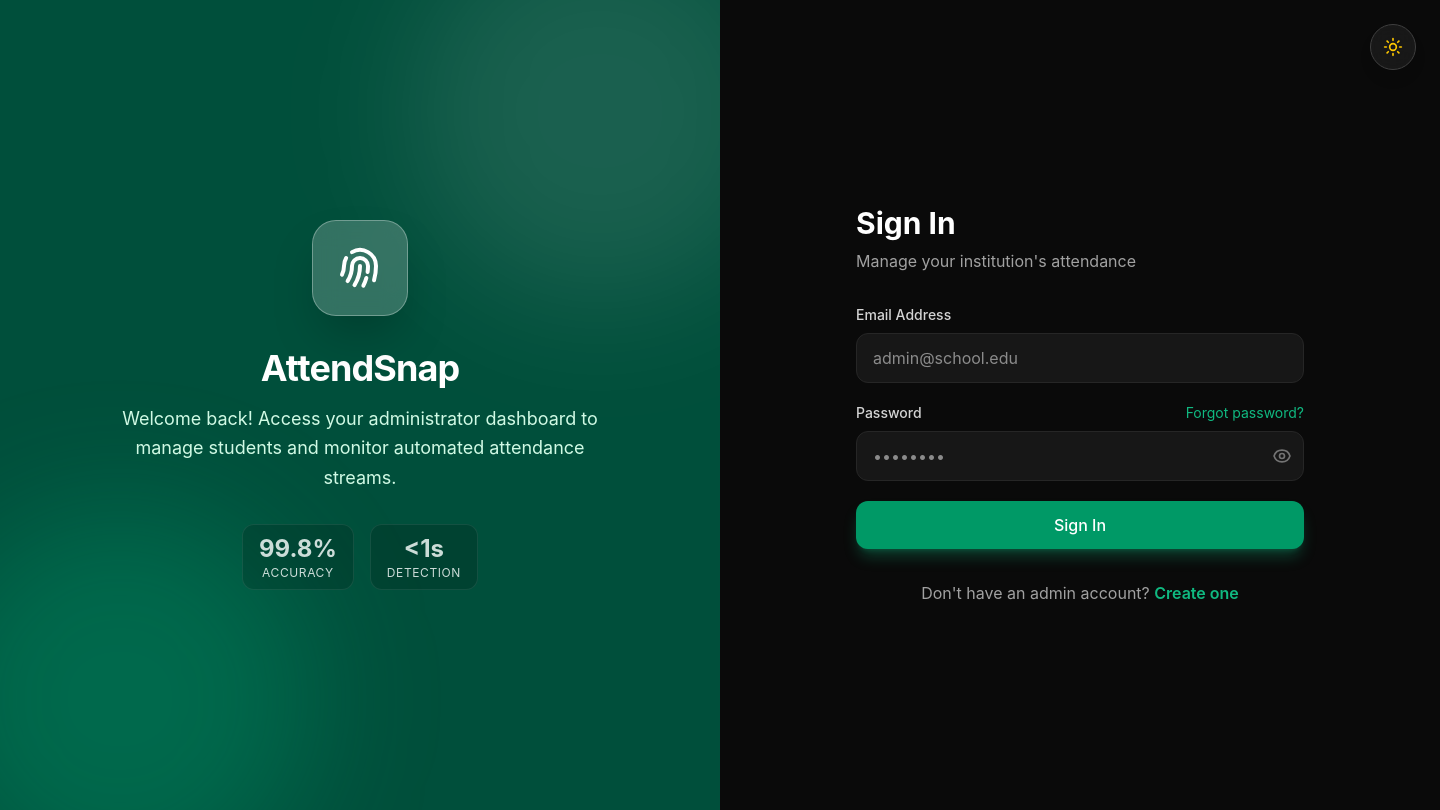
it: AdminAuth — Login Form › failed login shows error message
Type "bad@test.com" into the field labelled "Email Address" at (1080, 358), box x1=856 y1=333 x2=1304 y2=383
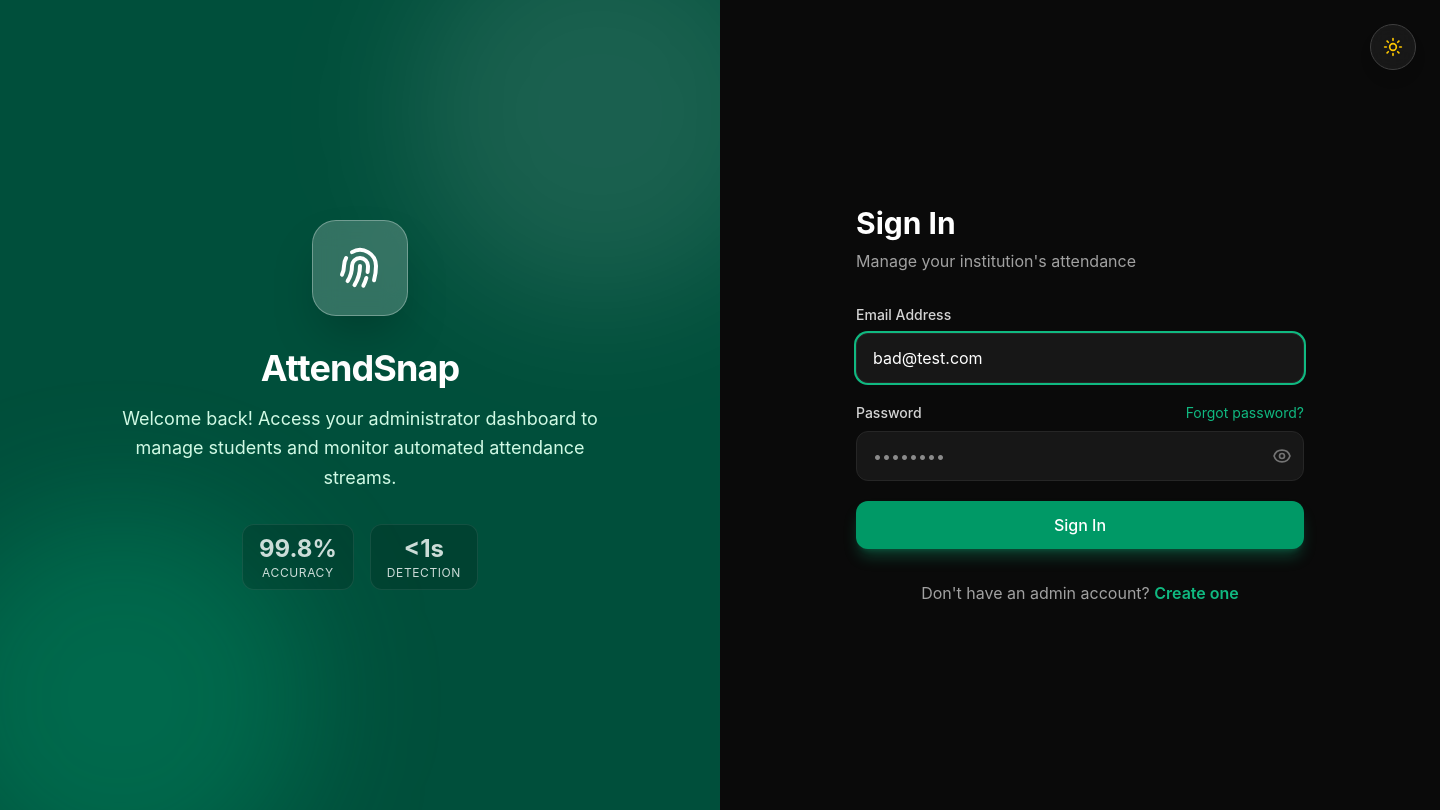
Type "wrongpass" into the password field with placeholder "••••••••" at (1080, 456), box x1=856 y1=431 x2=1304 y2=481
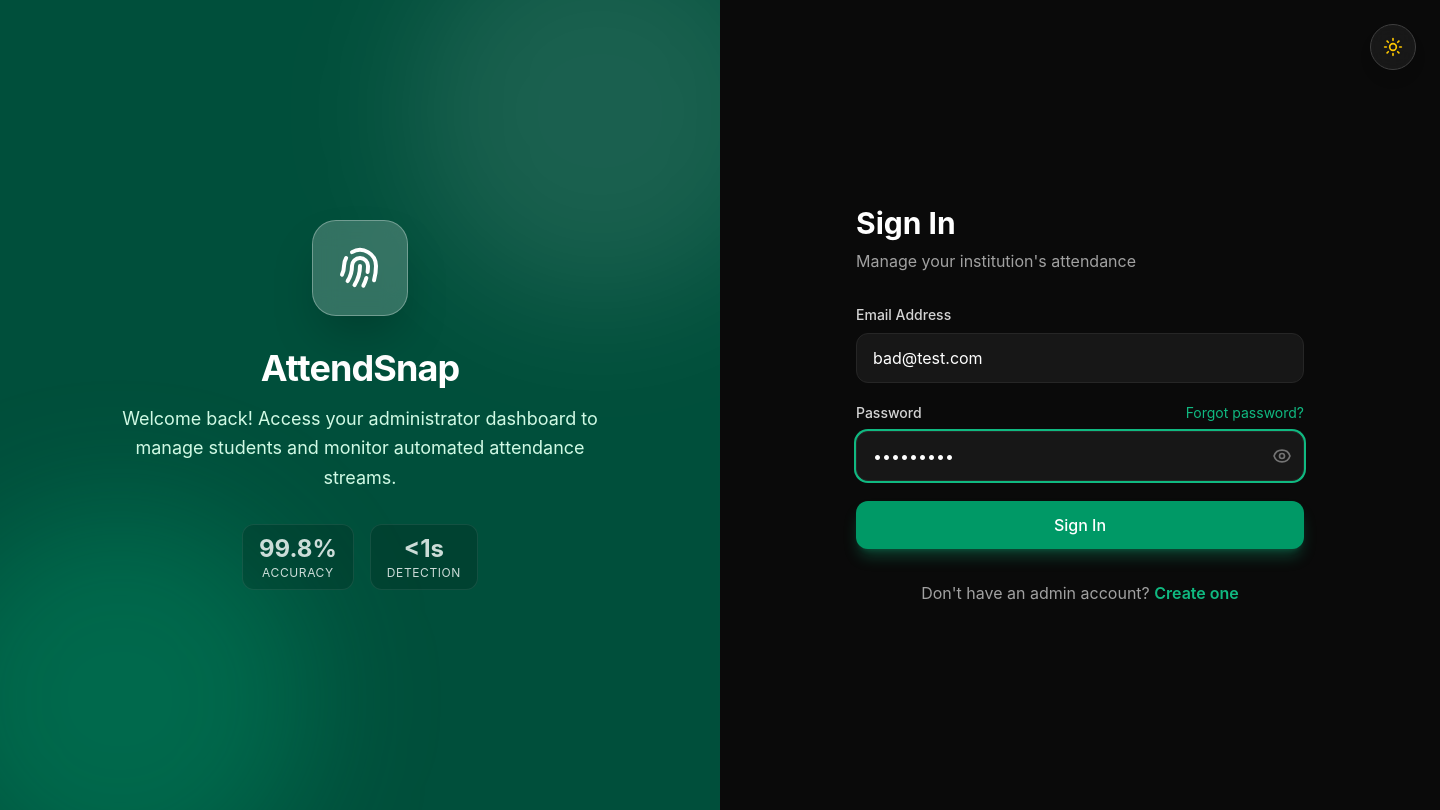
Click the button "Sign In" at (1080, 525), box x1=856 y1=501 x2=1304 y2=549
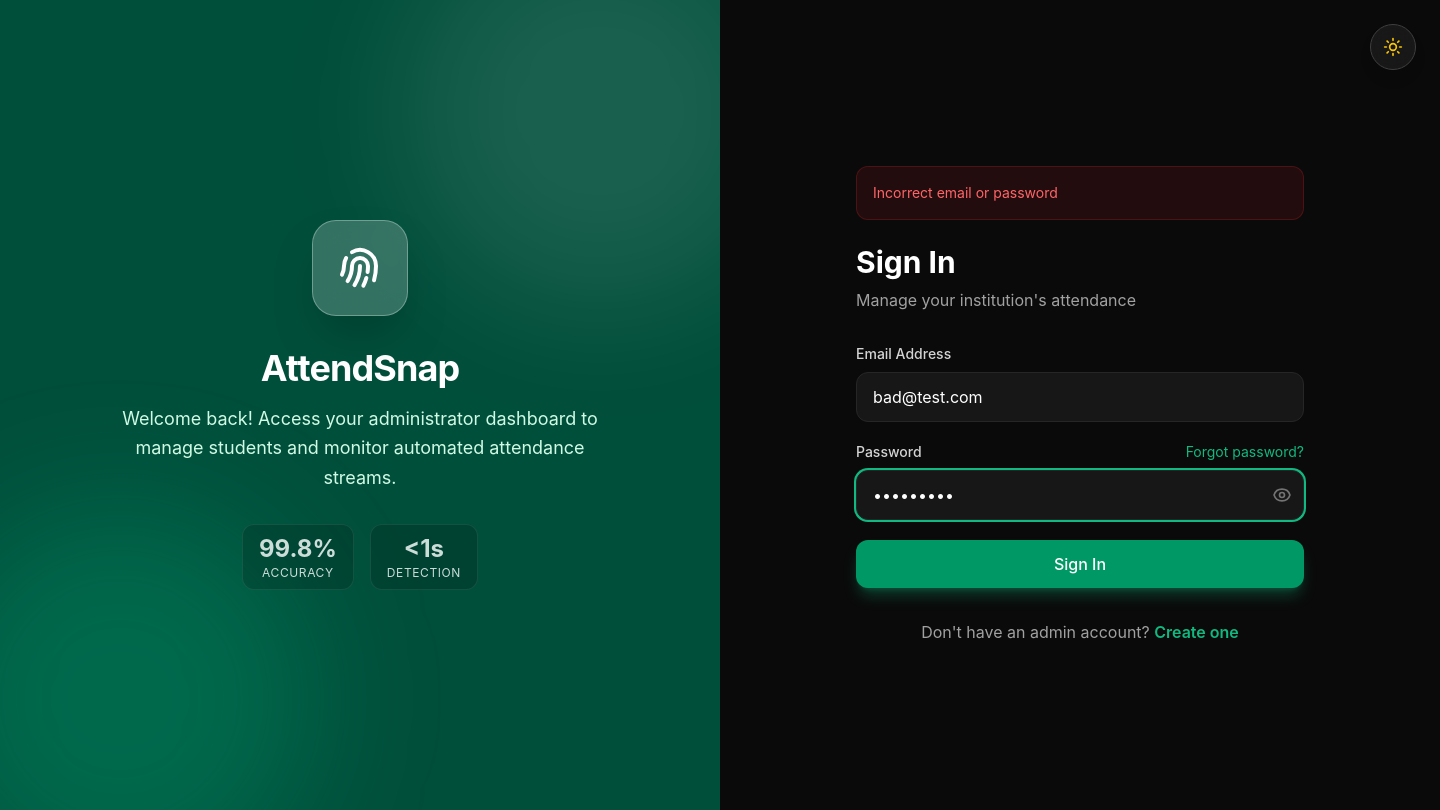
Check: the text "Incorrect email or password" is shown, box x1=856 y1=166 x2=1304 y2=220
